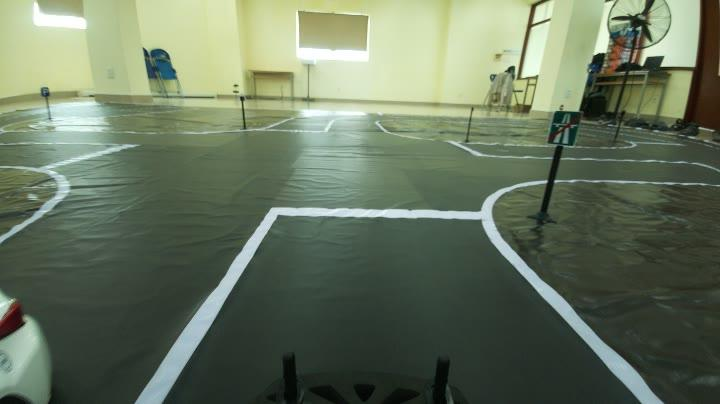highway_exit: (548, 105, 586, 151)
